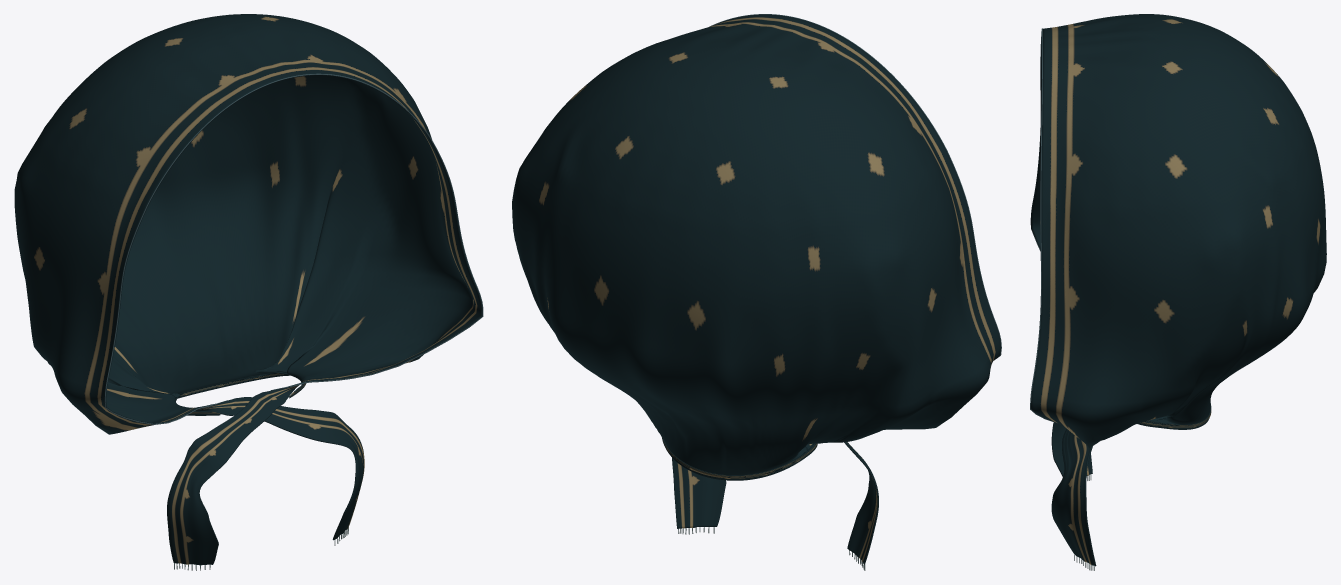
The model's file is Feminine-twin-braids-sweatshirt-pashmina249-headgear.glb.
3 renders of one model, left to right at view 1: azimuth 30°, elevation 25°; view 2: azimuth 150°, elevation 25°; view 3: azimuth 270°, elevation 25°, orthographic. The views are drawn at different scales.
Visible parts, largest first — view 1: 226 headgear / Headwear / continuous woven pashmina239, 226 headgear / Headwear / face edge239; view 2: 226 headgear / Headwear / continuous woven pashmina239, 226 headgear / Headwear / face edge239; view 3: 226 headgear / Headwear / continuous woven pashmina239, 226 headgear / Headwear / face edge239.
Boxes of the visible parts, x1,y1,x2,y2 form: 226 headgear / Headwear / continuous woven pashmina239: (14, 14, 482, 565); 226 headgear / Headwear / face edge239: (104, 73, 483, 424); 226 headgear / Headwear / continuous woven pashmina239: (512, 14, 1000, 564); 226 headgear / Headwear / face edge239: (709, 14, 1001, 360); 226 headgear / Headwear / continuous woven pashmina239: (1030, 14, 1326, 566); 226 headgear / Headwear / face edge239: (1030, 28, 1056, 422).
Bounding box in the file's own units: 1.15 × 1.36 × 0.7436.
3 materials, 1 textured.
